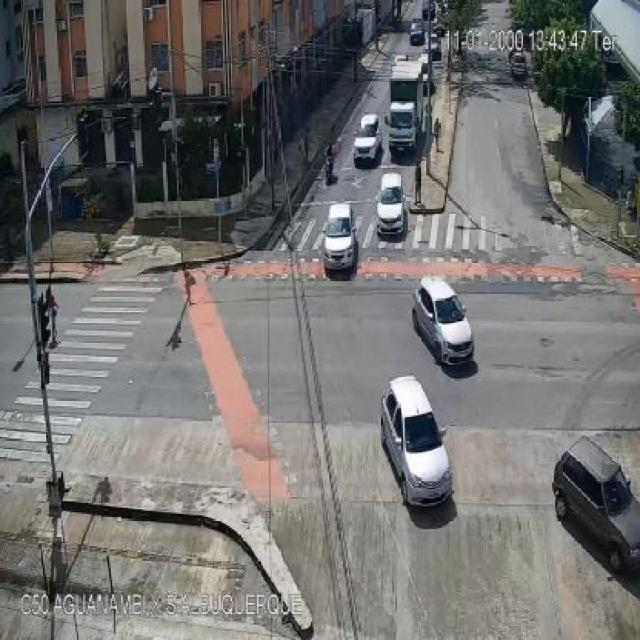Car: (550, 437, 640, 568), (384, 378, 458, 518), (412, 276, 479, 376), (322, 199, 359, 275), (376, 170, 406, 242), (350, 115, 380, 166)
Truck: (384, 60, 425, 159)
